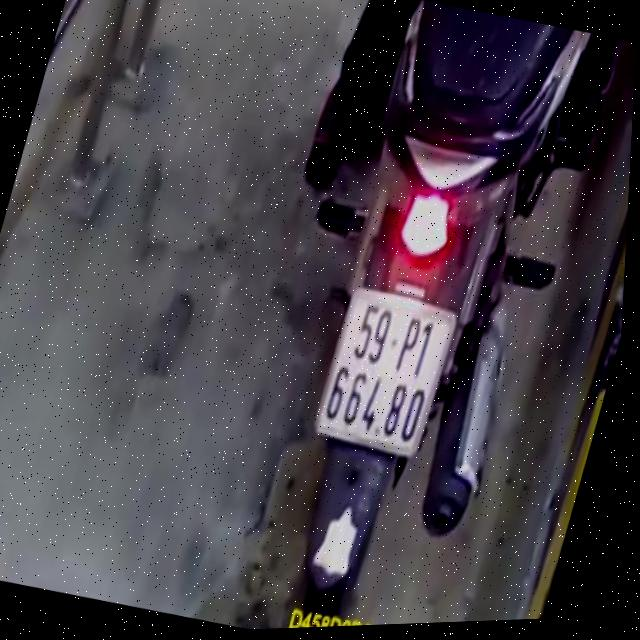motorcycle: (217, 0, 608, 631)
plate: (301, 276, 465, 470)
